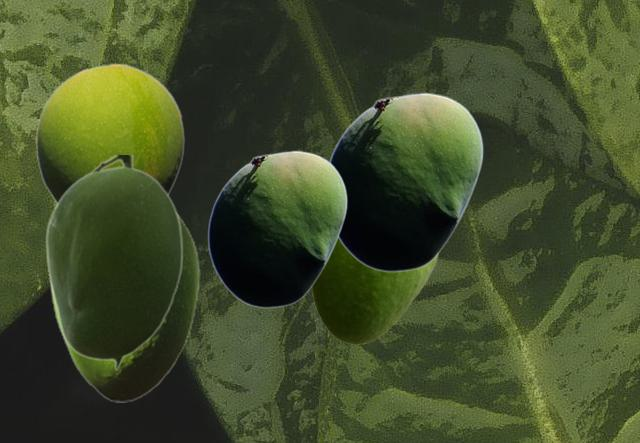green_mango: (44, 155, 182, 370), (49, 211, 199, 401), (328, 92, 483, 271), (207, 150, 347, 307), (35, 63, 184, 203), (310, 240, 439, 343)
